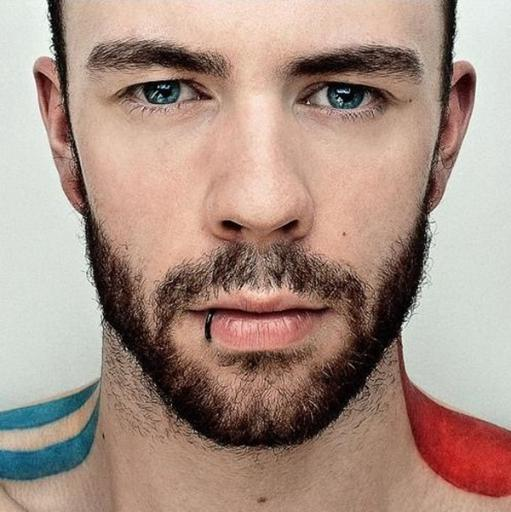left_eye: (295, 77, 401, 121)
left_lip_corner: (308, 298, 342, 325)
right_eye: (107, 73, 216, 119)
right_lip_corner: (184, 301, 224, 326)
